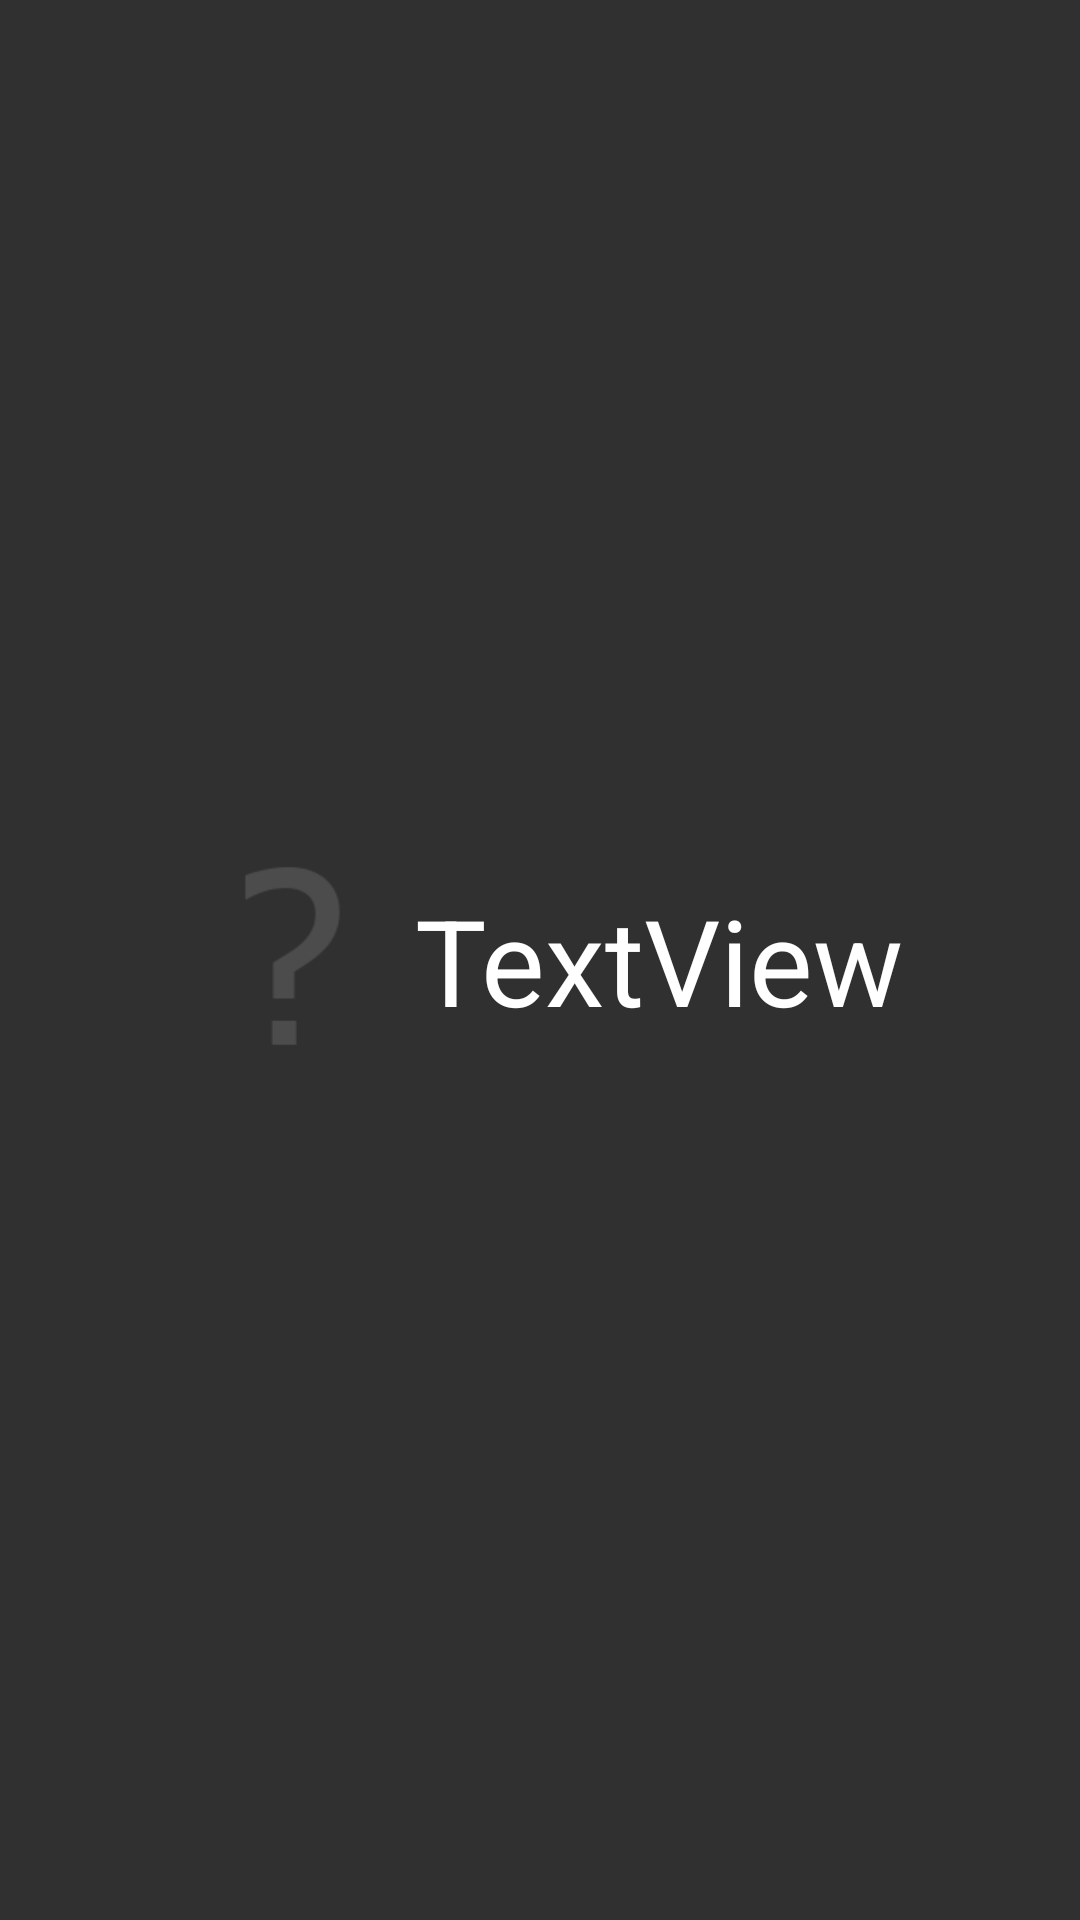

Screen size 1080x1920. Icon name, then its center in pixels as [x,y]:
unknow: [292,956]
